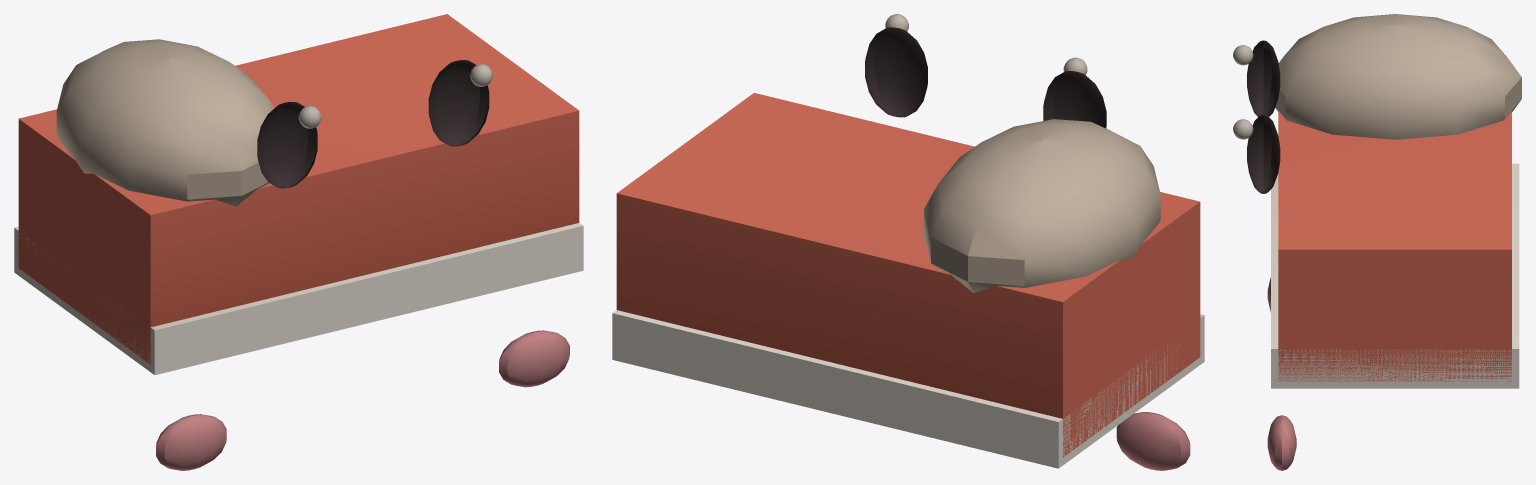
3 renders of one model, left to right at view 1: azimuth 30°, elevation 25°; view 2: azimuth 150°, elevation 25°; view 3: azimuth 270°, elevation 25°, orthographic. The views are drawn at different scales.
Parts seen in each view (by area): view 1: pet_pd495844f; view 2: pet_pd495844f; view 3: pet_pd495844f.
Part boxes in pixels (left/top/right/bottom): pet_pd495844f: left=14, top=14, right=583, bottom=470; pet_pd495844f: left=612, top=14, right=1204, bottom=470; pet_pd495844f: left=1233, top=14, right=1521, bottom=470.
Bounding box in the file's own units: 0.303 × 0.237 × 0.1976.
